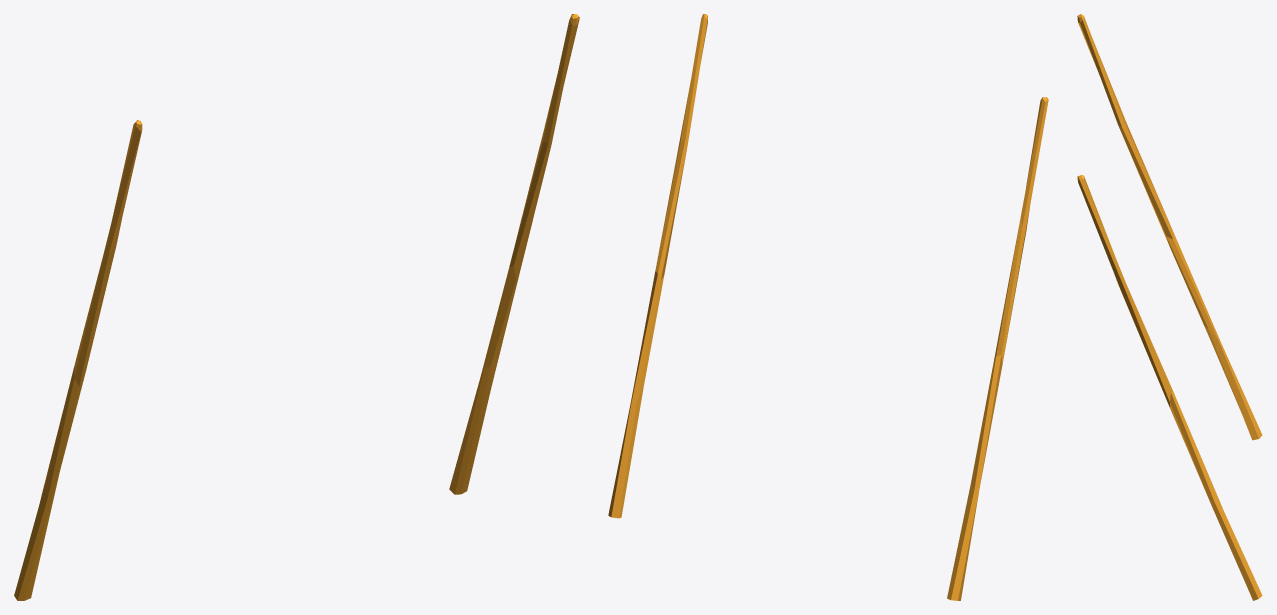
The model's file is SM_Tent_Porch_Narrow_Striped_Construct_A_Frame_Fantasy.fbx.
The picture shows the model from 3 angles, left to right: view 1: azimuth 30°, elevation 25°; view 2: azimuth 150°, elevation 25°; view 3: azimuth 270°, elevation 25°; orthographic projection. The views are drawn at different scales.
Parts seen in each view (by area): view 1: tent-porch-narrow-striped-construct-a-frame-fantasy; view 2: tent-porch-narrow-striped-construct-a-frame-fantasy; view 3: tent-porch-narrow-striped-construct-a-frame-fantasy.
Boxes of the visible parts, bbox=[...] form: tent-porch-narrow-striped-construct-a-frame-fantasy: bbox=[14, 14, 579, 600]; tent-porch-narrow-striped-construct-a-frame-fantasy: bbox=[608, 14, 1048, 600]; tent-porch-narrow-striped-construct-a-frame-fantasy: bbox=[1077, 14, 1262, 600].
Bounding box in the file's own units: 2.28 × 2.73 × 1.08.
